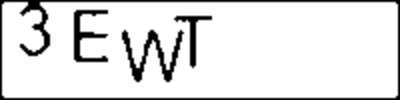3: (17, 1, 53, 61)
E: (68, 7, 115, 68)
T: (172, 6, 217, 71)
W: (117, 27, 187, 85)
